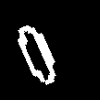chain: (18, 26, 55, 84)
